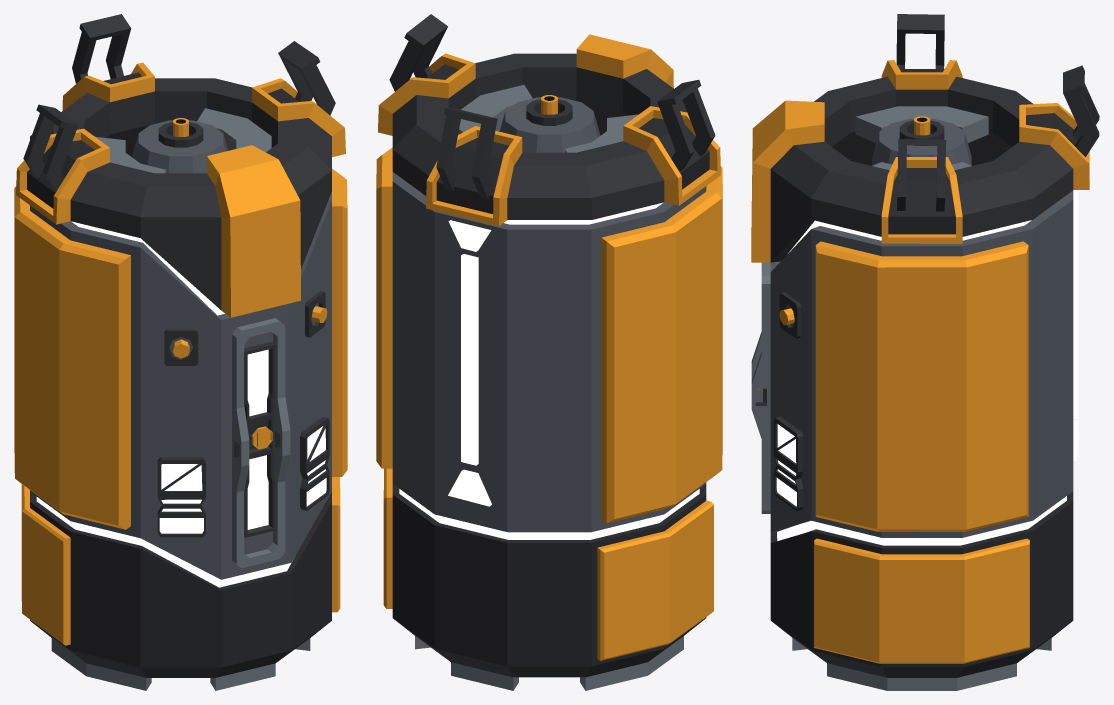
The model's file is SM_Barrel_Oxygen.glb.
3 views of the same model, side by side, from view 1: azimuth 30°, elevation 25°; view 2: azimuth 150°, elevation 25°; view 3: azimuth 270°, elevation 25° (orthographic). The views are drawn at different scales.
Visible parts, largest first — view 1: SM_Barrel_Oxygen; view 2: SM_Barrel_Oxygen; view 3: SM_Barrel_Oxygen.
Boxes of the visible parts, x1=… form: SM_Barrel_Oxygen: x1=14, y1=14, x2=347, y2=690; SM_Barrel_Oxygen: x1=376, y1=14, x2=722, y2=690; SM_Barrel_Oxygen: x1=751, y1=14, x2=1099, y2=690.
Bounding box in the file's own units: 0.629 × 1.15 × 0.6478.
2 materials, 1 textured.
